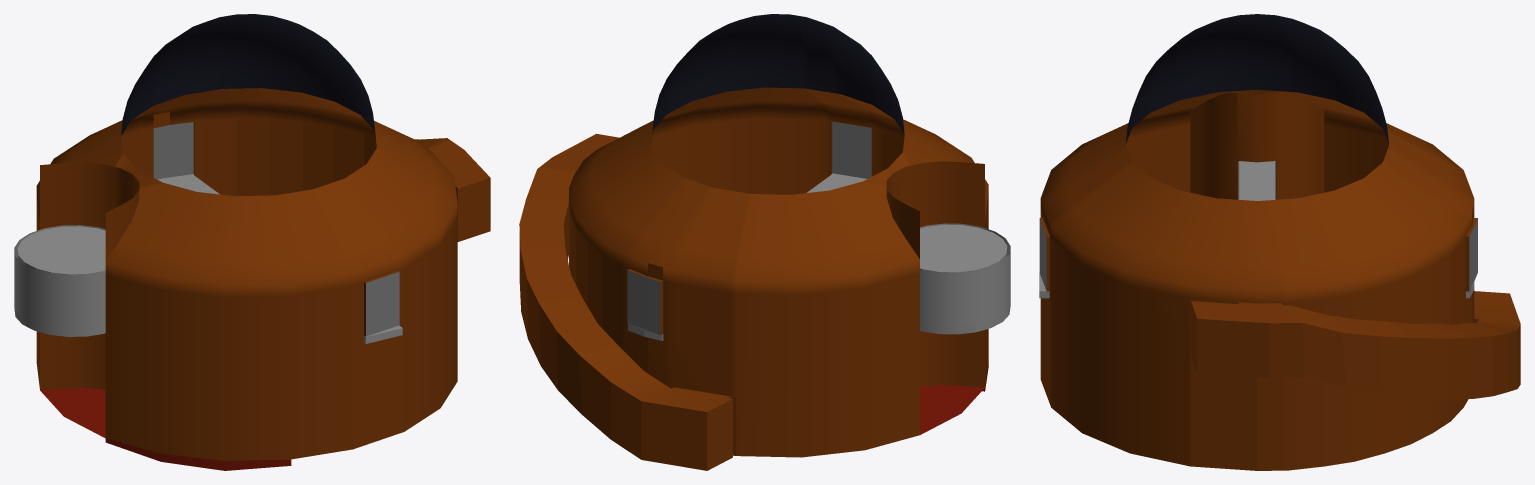
File: Level1.2.fbx
3 views of the same model, side by side, from view 1: azimuth 30°, elevation 25°; view 2: azimuth 150°, elevation 25°; view 3: azimuth 270°, elevation 25° (orthographic). The views are drawn at different scales.
Visible parts, largest first — view 1: polySurface3, pSphere1, pCylinder2, pCylinder4, polySurface4, pCylinder3; view 2: polySurface3, pSphere1, pCylinder2, pCylinder4, polySurface4, pCylinder3; view 3: polySurface3, pSphere1, pCylinder2, pCylinder4.
Boxes of the visible parts, <box> form: polySurface3: <box>36,88,490,460</box>; pSphere1: <box>121,14,376,144</box>; pCylinder2: <box>40,162,139,390</box>; pCylinder4: <box>14,225,105,336</box>; polySurface4: <box>40,388,291,470</box>; pCylinder3: <box>160,175,402,343</box>; polySurface3: <box>519,87,988,470</box>; pSphere1: <box>651,14,904,141</box>; pCylinder2: <box>886,161,984,387</box>; pCylinder4: <box>920,223,1010,334</box>; polySurface4: <box>920,360,988,434</box>; pCylinder3: <box>628,174,864,340</box>; polySurface3: <box>1039,90,1520,470</box>; pSphere1: <box>1125,14,1388,144</box>; pCylinder2: <box>1190,91,1324,199</box>; pCylinder4: <box>1238,161,1275,200</box>.
Size of the model in its own units: 123 by 93.34 by 112.
